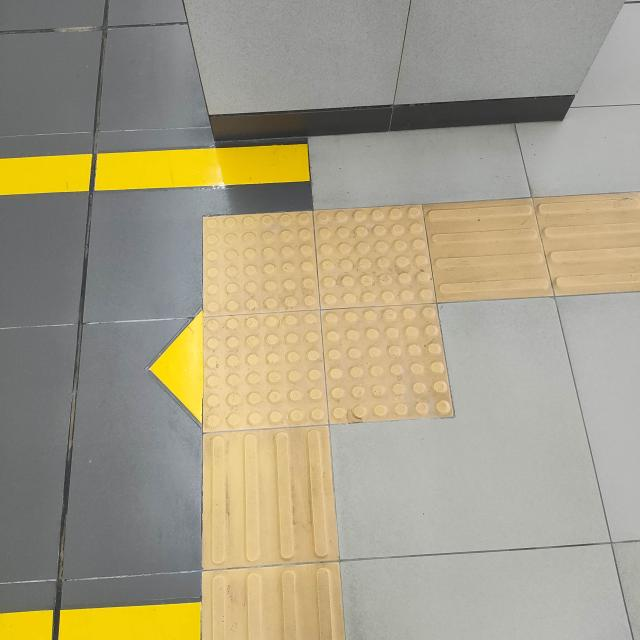kanan: (149, 170, 640, 482)
